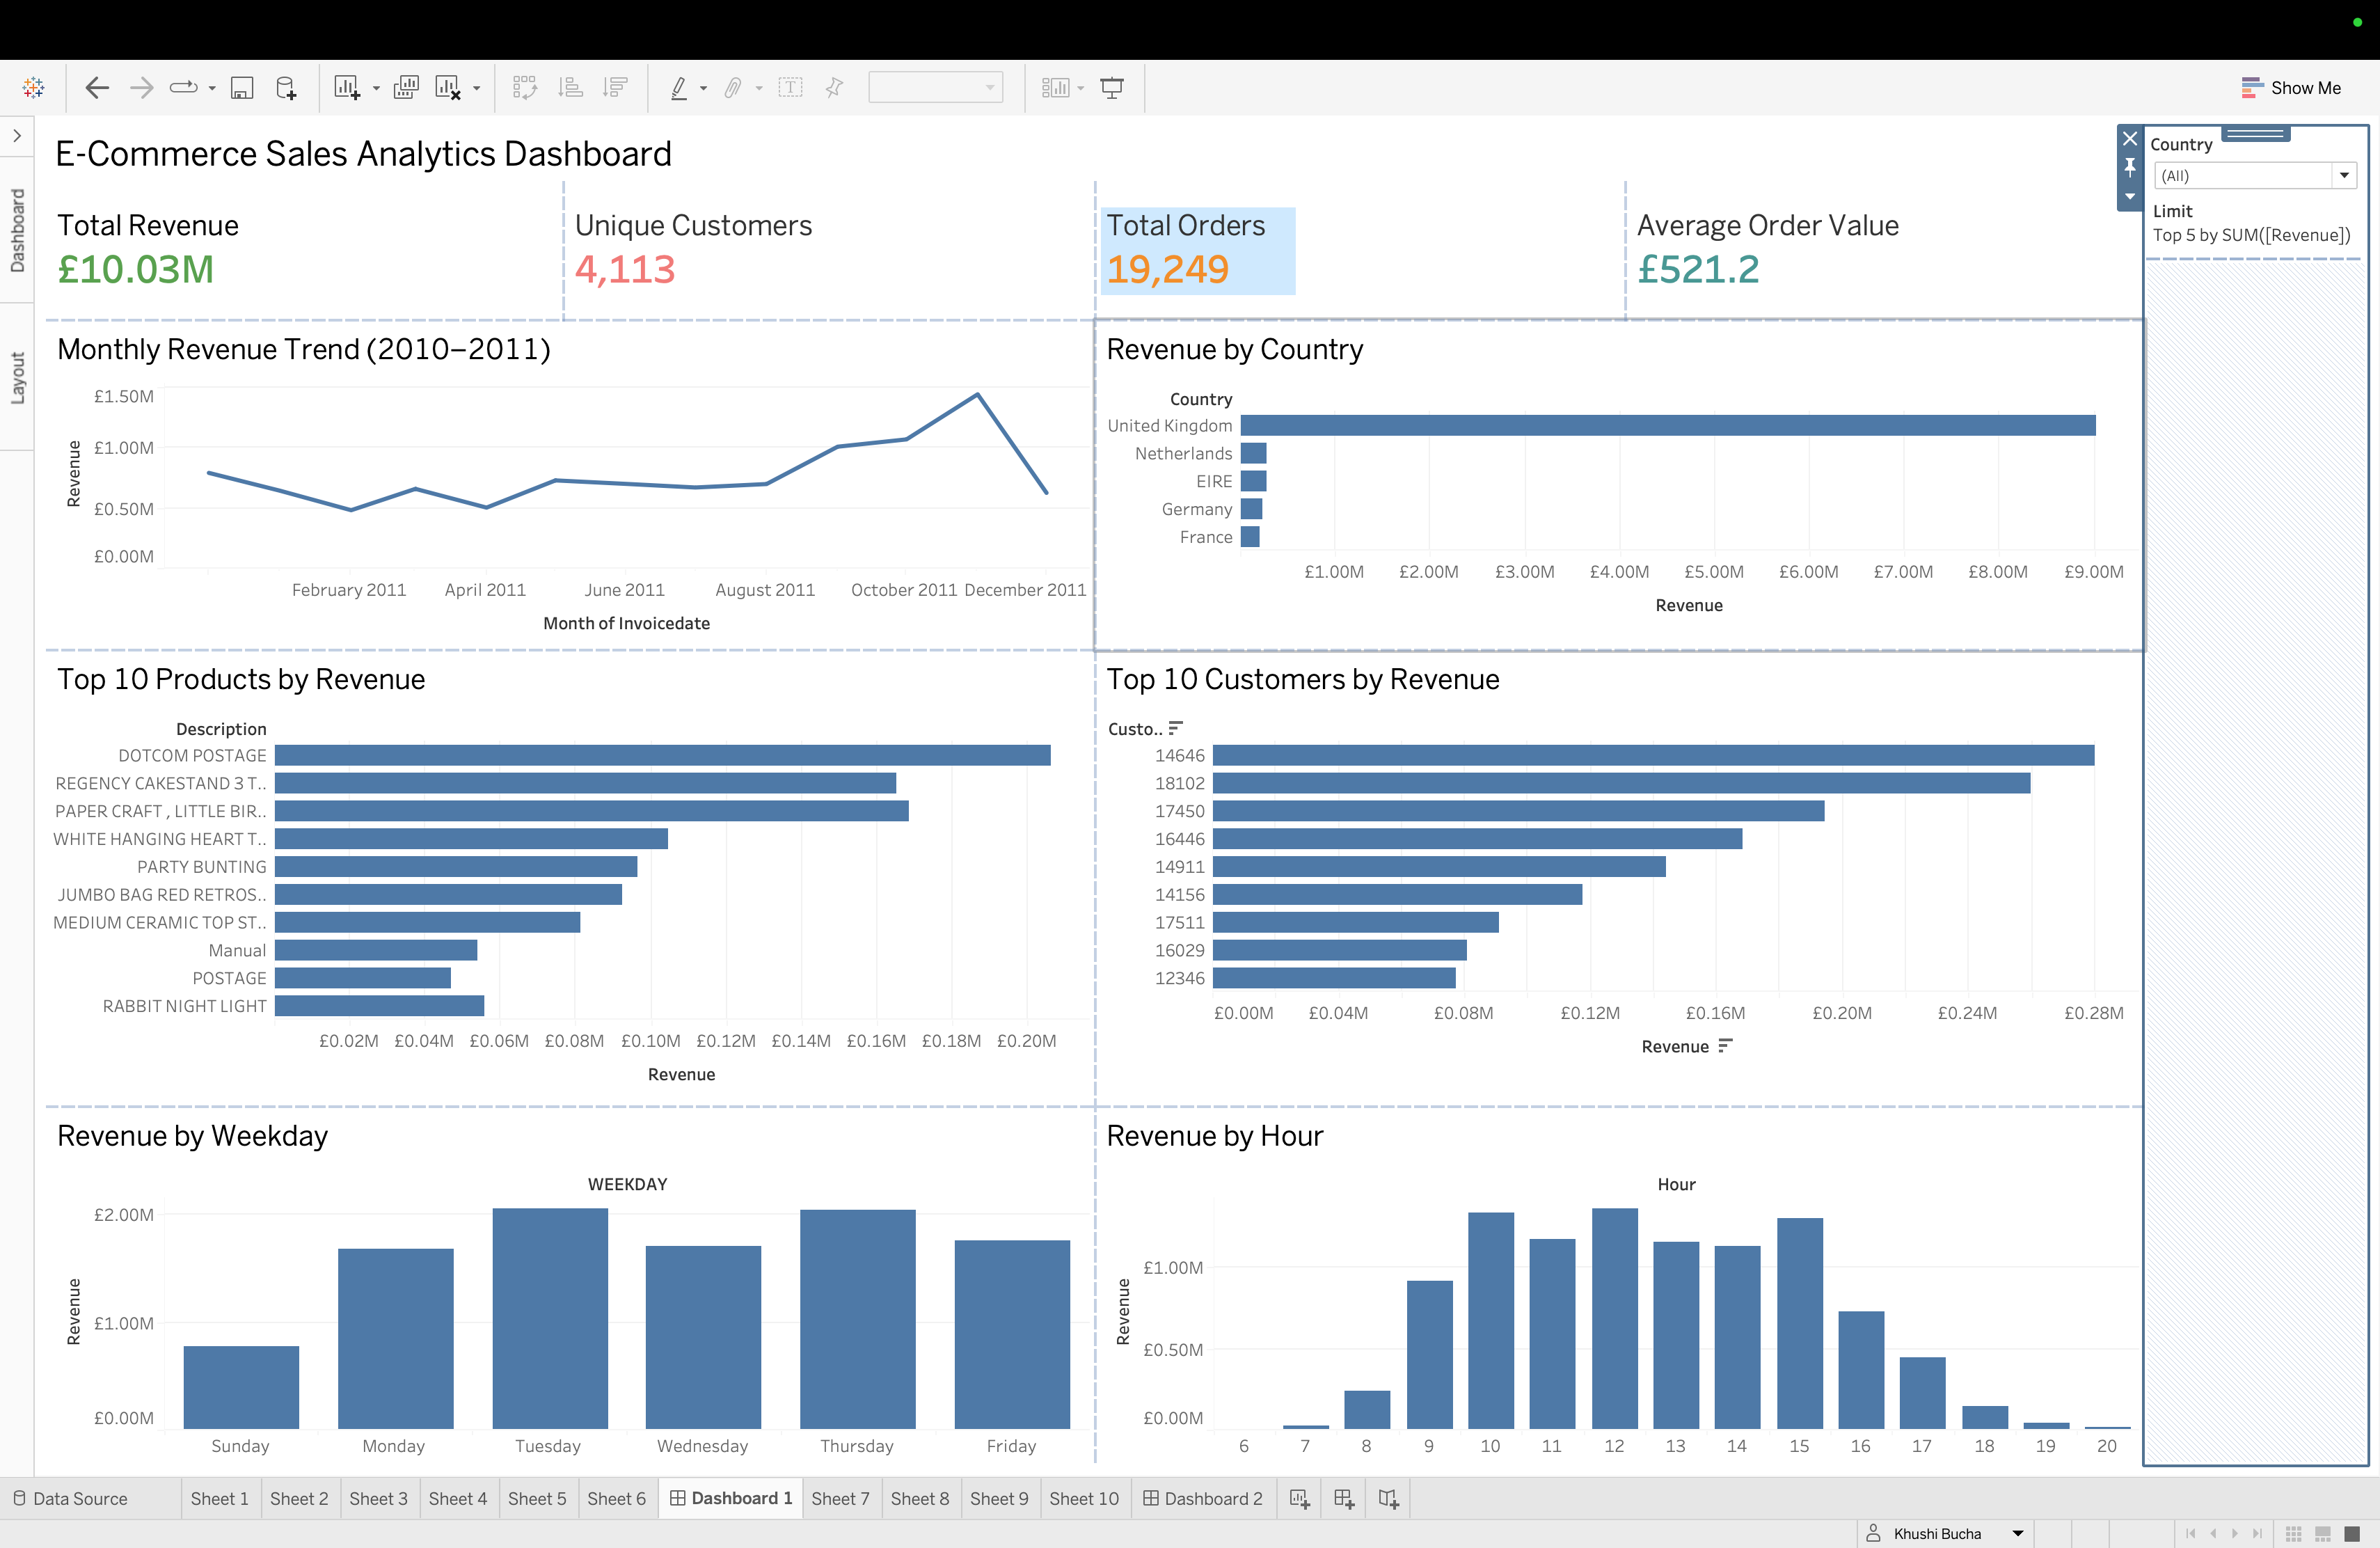

The page's visual inventory and layout, read from the dashboard file:
{"tool":"tableau","page":{"name":"Dashboard 1","canvas":[1000,1000],"units":"permille","ordinal":0},"visuals":[{"type":"title","box":[5.3,8.2,882.6,39.9]},{"type":"filter","title":"Sheet 2","param":"[federated.1xxw2gg0mle1z417xrtcx0zceyp2].[none:country:nk]","box":[887.9,8.2,106.7,96.2]},{"type":"worksheet","title":"Sheet 7","mark":"Automatic","box":[5.3,48.1,217.8,102.3]},{"type":"worksheet","title":"Sheet 9","mark":"Automatic","box":[223.2,48.1,223.8,102.3]},{"type":"worksheet","title":"Sheet 8","mark":"Automatic","box":[446.9,48.1,222.6,102.3]},{"type":"worksheet","title":"Sheet 10","mark":"Automatic","box":[669.5,48.1,218.4,102.3]},{"type":"worksheet","title":"Sheet 1","mark":"Line","rows":["revenue"],"cols":["invoicedate"],"box":[5.3,150.5,441.3,242.6]},{"type":"worksheet","title":"Sheet 2","mark":"Automatic","rows":["country"],"cols":["revenue"],"box":[446.6,150.5,441.3,242.6]},{"type":"worksheet","title":"Sheet 3","mark":"Automatic","rows":["description"],"cols":["revenue"],"box":[5.3,393,441.3,335.7]},{"type":"worksheet","title":"Sheet 4","mark":"Automatic","rows":["customerid"],"cols":["revenue"],"box":[446.6,393,441.3,335.7]},{"type":"worksheet","title":"Sheet 5","mark":"Bar","rows":["revenue"],"cols":["Calculation_3044609133662208"],"box":[5.3,728.8,441.3,263.1]},{"type":"worksheet","title":"Sheet 6","mark":"Automatic","rows":["revenue"],"cols":["Calculation_3044609134362625"],"box":[446.6,728.8,441.3,263.1]}]}

Visuals, with their boxes on the dashboard's canvas, which has no fixed pixel size, in thousandths of its width and height (x1, y1, x2, y2). These are canvas units, not pixel positions in the 2380x1548 screenshot, which may show the page scaled, cropped or inside an application window:
title: 5,8,888,48
"Sheet 2" filter: 888,8,995,104
"Sheet 7" worksheet: 5,48,223,150
"Sheet 9" worksheet: 223,48,447,150
"Sheet 8" worksheet: 447,48,670,150
"Sheet 10" worksheet: 670,48,888,150
"Sheet 1" worksheet (Line marks): 5,150,447,393
"Sheet 2" worksheet: 447,150,888,393
"Sheet 3" worksheet: 5,393,447,729
"Sheet 4" worksheet: 447,393,888,729
"Sheet 5" worksheet (Bar marks): 5,729,447,992
"Sheet 6" worksheet: 447,729,888,992
